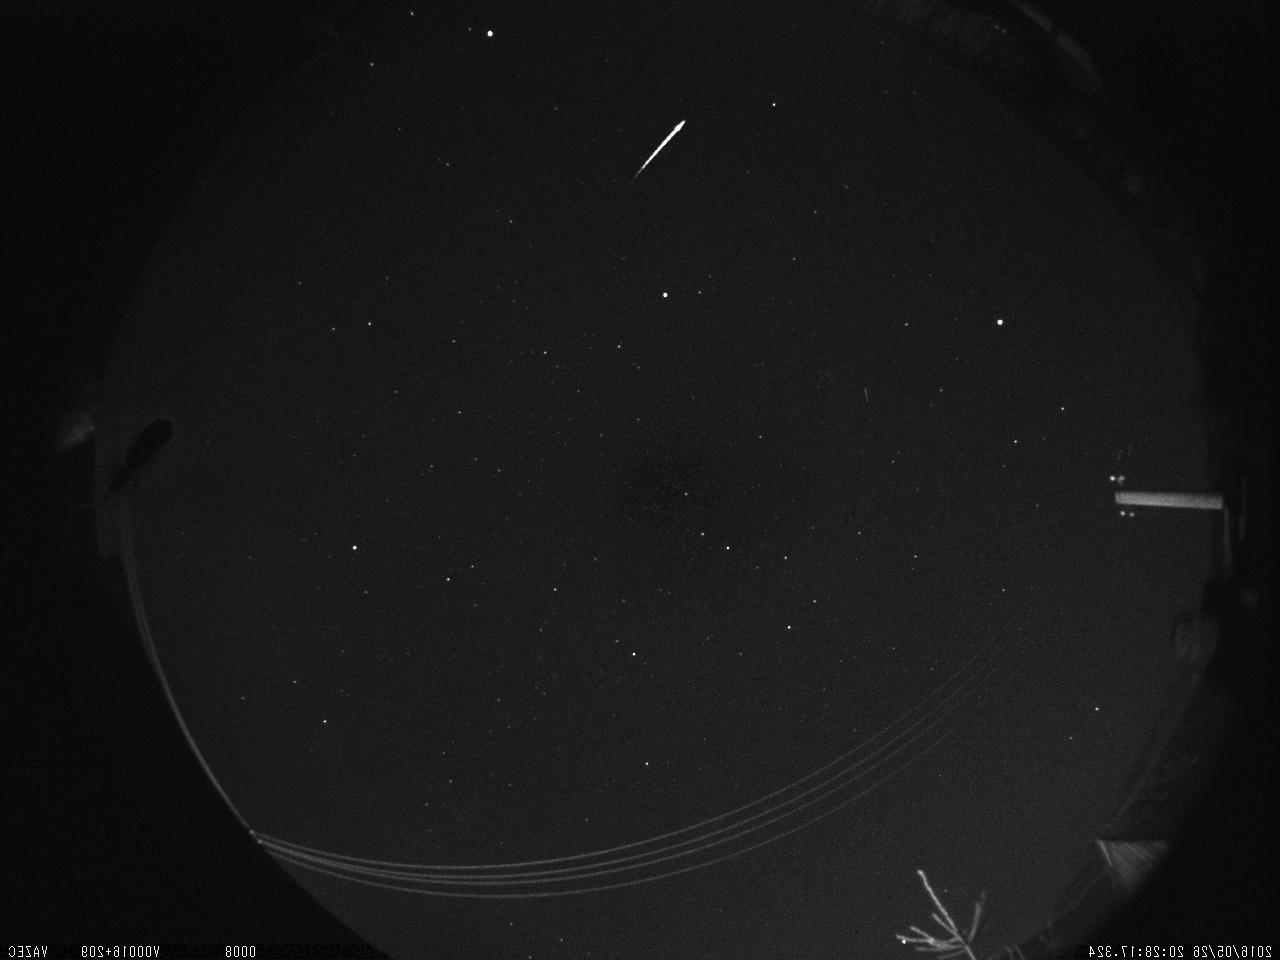meteor: (617, 111, 706, 195)
